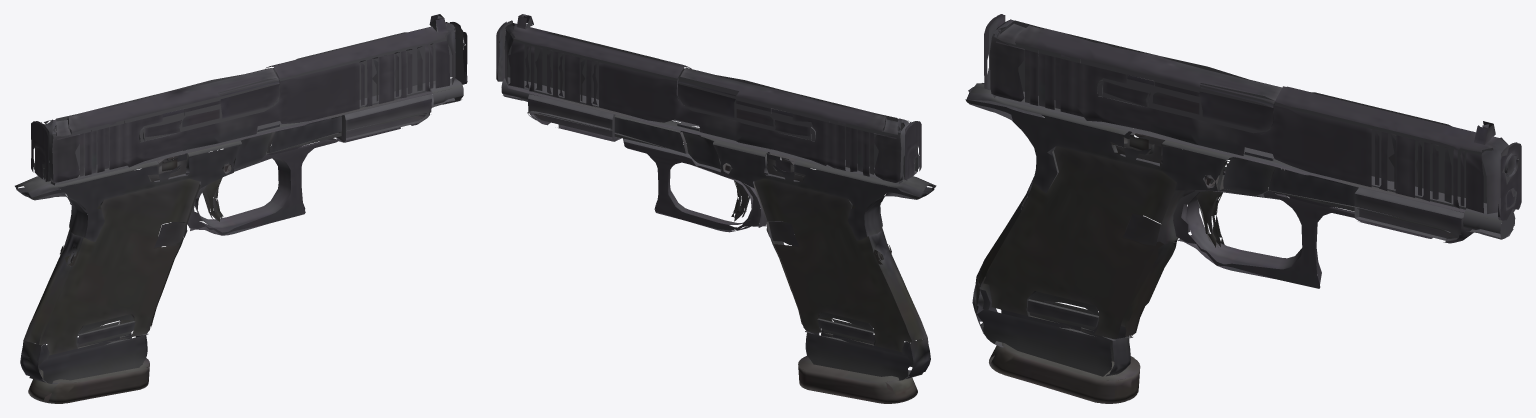
Rendered from g_glock_lo.glb.
3 renders of one model, left to right at view 1: azimuth 30°, elevation 25°; view 2: azimuth 150°, elevation 25°; view 3: azimuth 330°, elevation 25°, orthographic. The views are drawn at different scales.
Visible parts, largest first — view 1: merged; view 2: merged; view 3: merged.
Boxes of the visible parts, x1,y1,x2,y2 form: merged: (15,14,467,403); merged: (496,14,936,403); merged: (965,14,1521,403).
Bounding box in the file's own units: 4.92 × 3.14 × 0.5324.
1 material, 1 textured.
